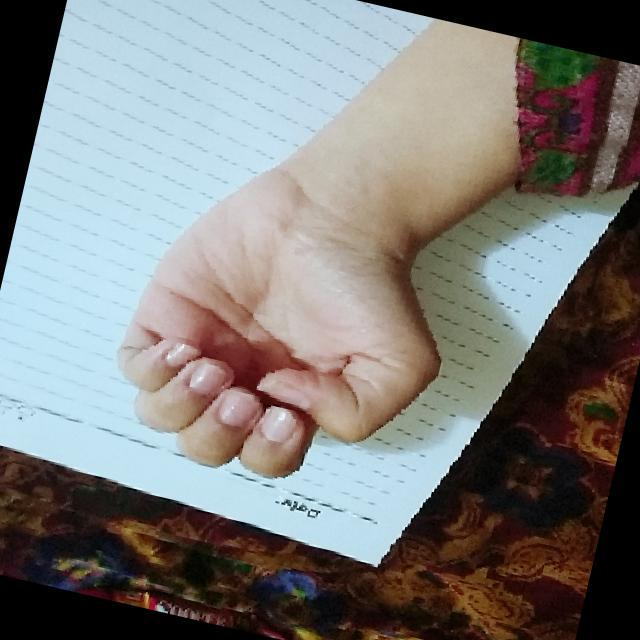Nail: (256, 374, 309, 409), (216, 391, 261, 428), (259, 405, 296, 443), (189, 362, 228, 395), (164, 341, 200, 368)
